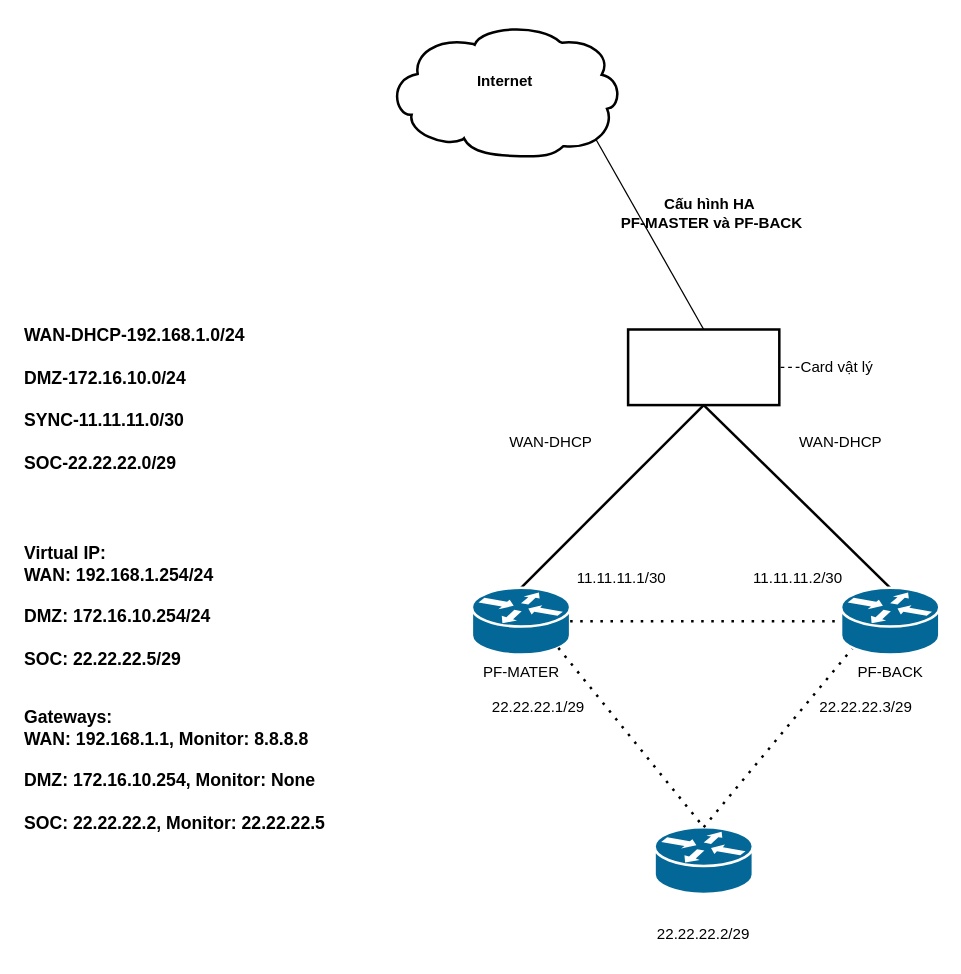
Image size: 961x974. Some labels were removed from this diagram. Each missing label, with the centre of its shape:
"enp5s0" belongs at (x=703, y=367).
"PF-SOC" belongs at (x=703, y=860).
